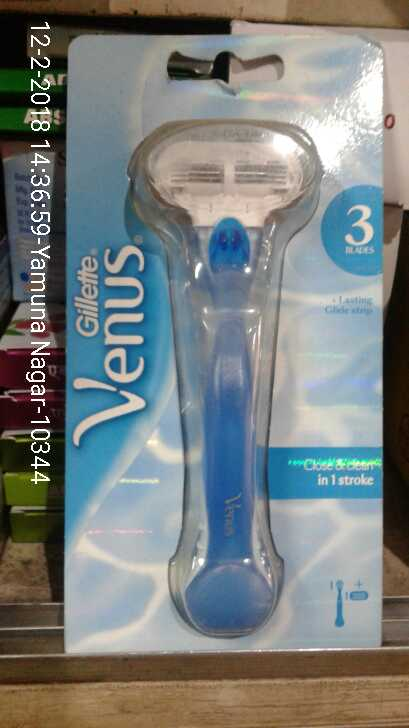venus: (67, 28, 386, 650)
